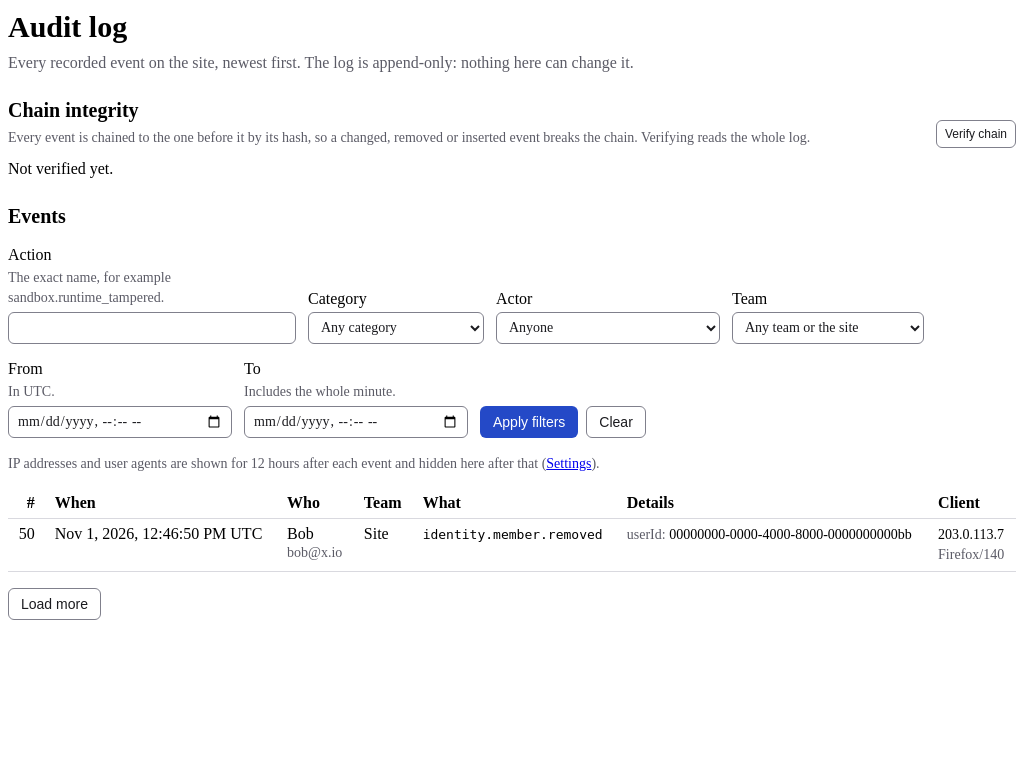
Scenario: audit paging and filtering (KOBE-291 review) › drops a Load more page that answers after the filters changed
Click the button "Load more": x=54, y=604 [8,588,101,620]
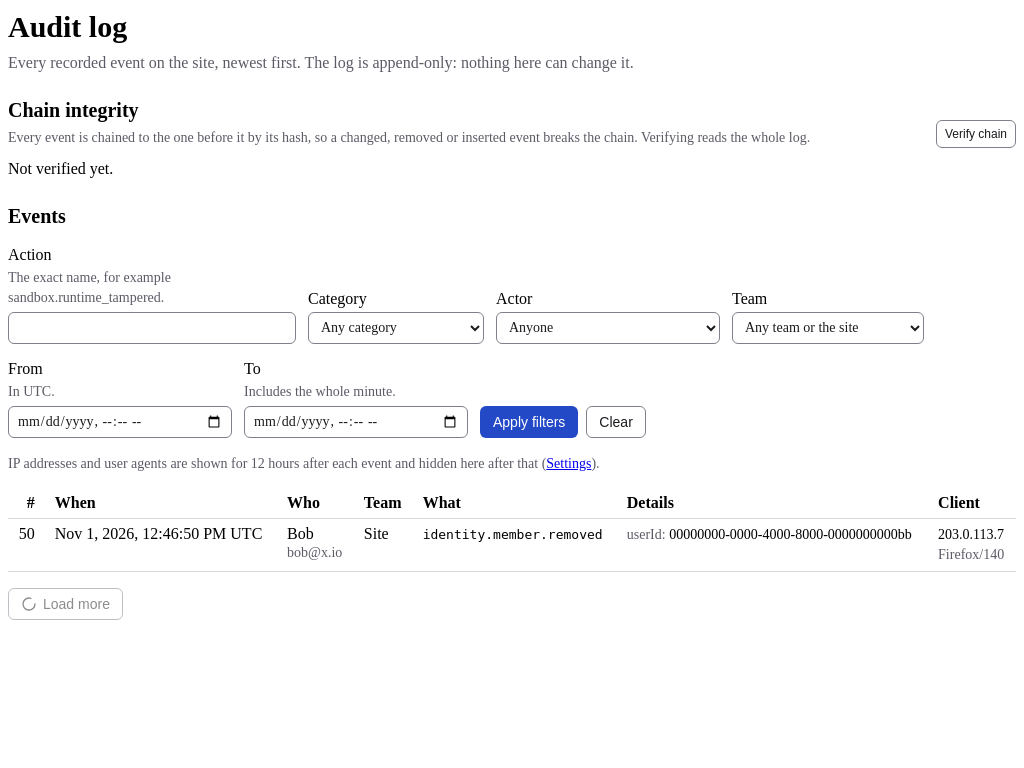
Select "auth" in the dropdown labelled "Category": x=396, y=328 [308,312,484,344]
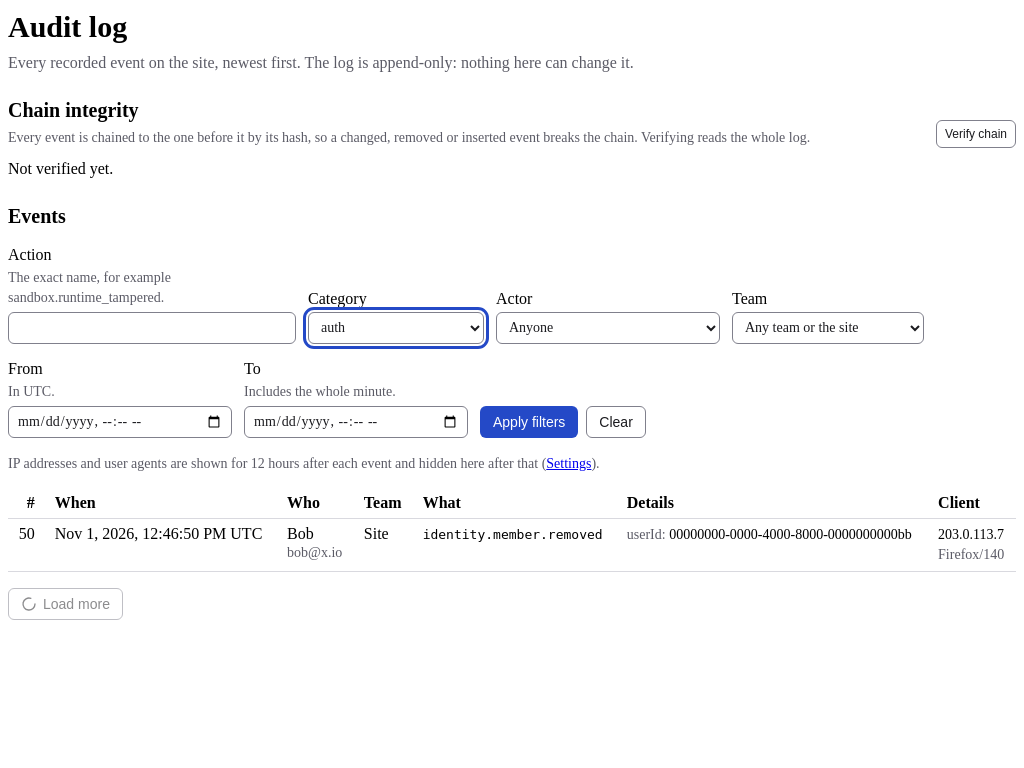
Click the button "Apply filters": x=529, y=422 [480,406,578,438]
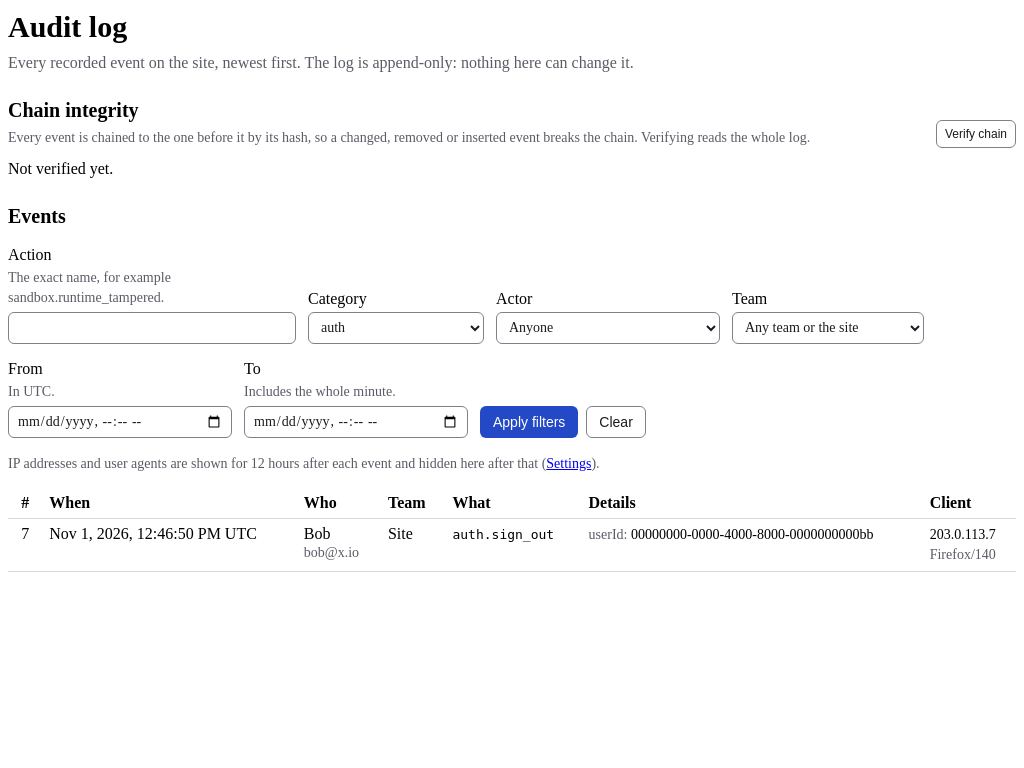
Check: the number of rows is 2, box [8,488,1016,518]; [8,518,1016,571]
Check: the text "auth.sign_out" is shown, box [452,526,554,542]
Check: the button "Load more" is gone
